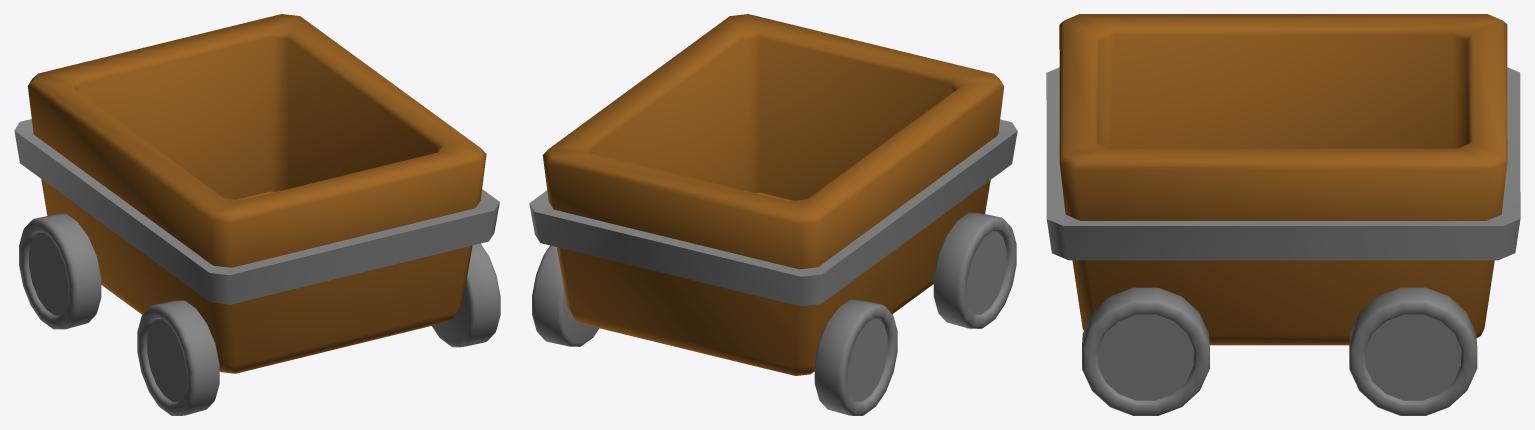
File: cart.fbx
3 renders of one model, left to right at view 1: azimuth 30°, elevation 25°; view 2: azimuth 150°, elevation 25°; view 3: azimuth 270°, elevation 25°, orthographic. The views are drawn at different scales.
Visible parts, largest first — view 1: Cart; view 2: Cart; view 3: Cart.
Part boxes in pixels (x1,y1,x2,y2): Cart: [14, 14, 500, 415]; Cart: [529, 14, 1017, 415]; Cart: [1046, 14, 1520, 415].
Size of the model in its own units: 5.96 by 3.97 by 6.99.
